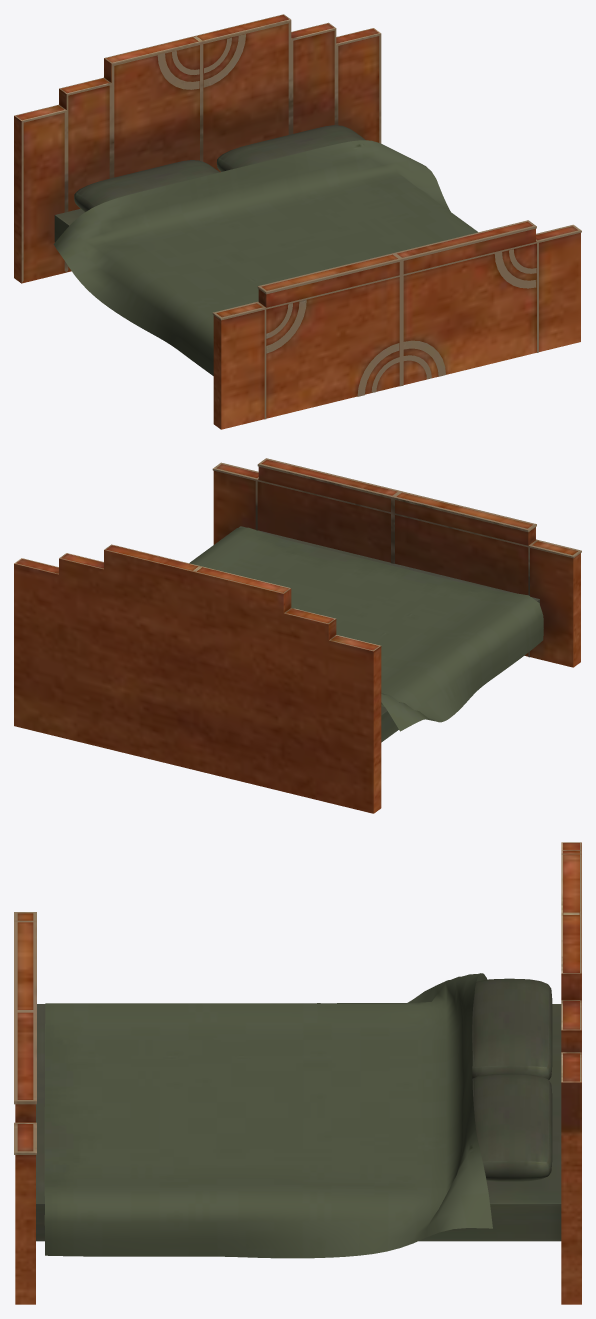
The model's file is deco-hotel-bed.gltf.
3 views of the same model, one above another, from view 1: azimuth 30°, elevation 25°; view 2: azimuth 150°, elevation 25°; view 3: azimuth 270°, elevation 25° (orthographic). The views are drawn at different scales.
Visible parts, largest first — view 1: Sketchfab_model; view 2: Sketchfab_model; view 3: Sketchfab_model.
Part boxes in pixels (<box>): Sketchfab_model: <box>14,14,581,429</box>; Sketchfab_model: <box>14,458,581,813</box>; Sketchfab_model: <box>14,842,581,1304</box>.
Size of the model in its own units: 2.04 by 1.05 by 1.99.
Materials: 6 (6 with a texture image).
